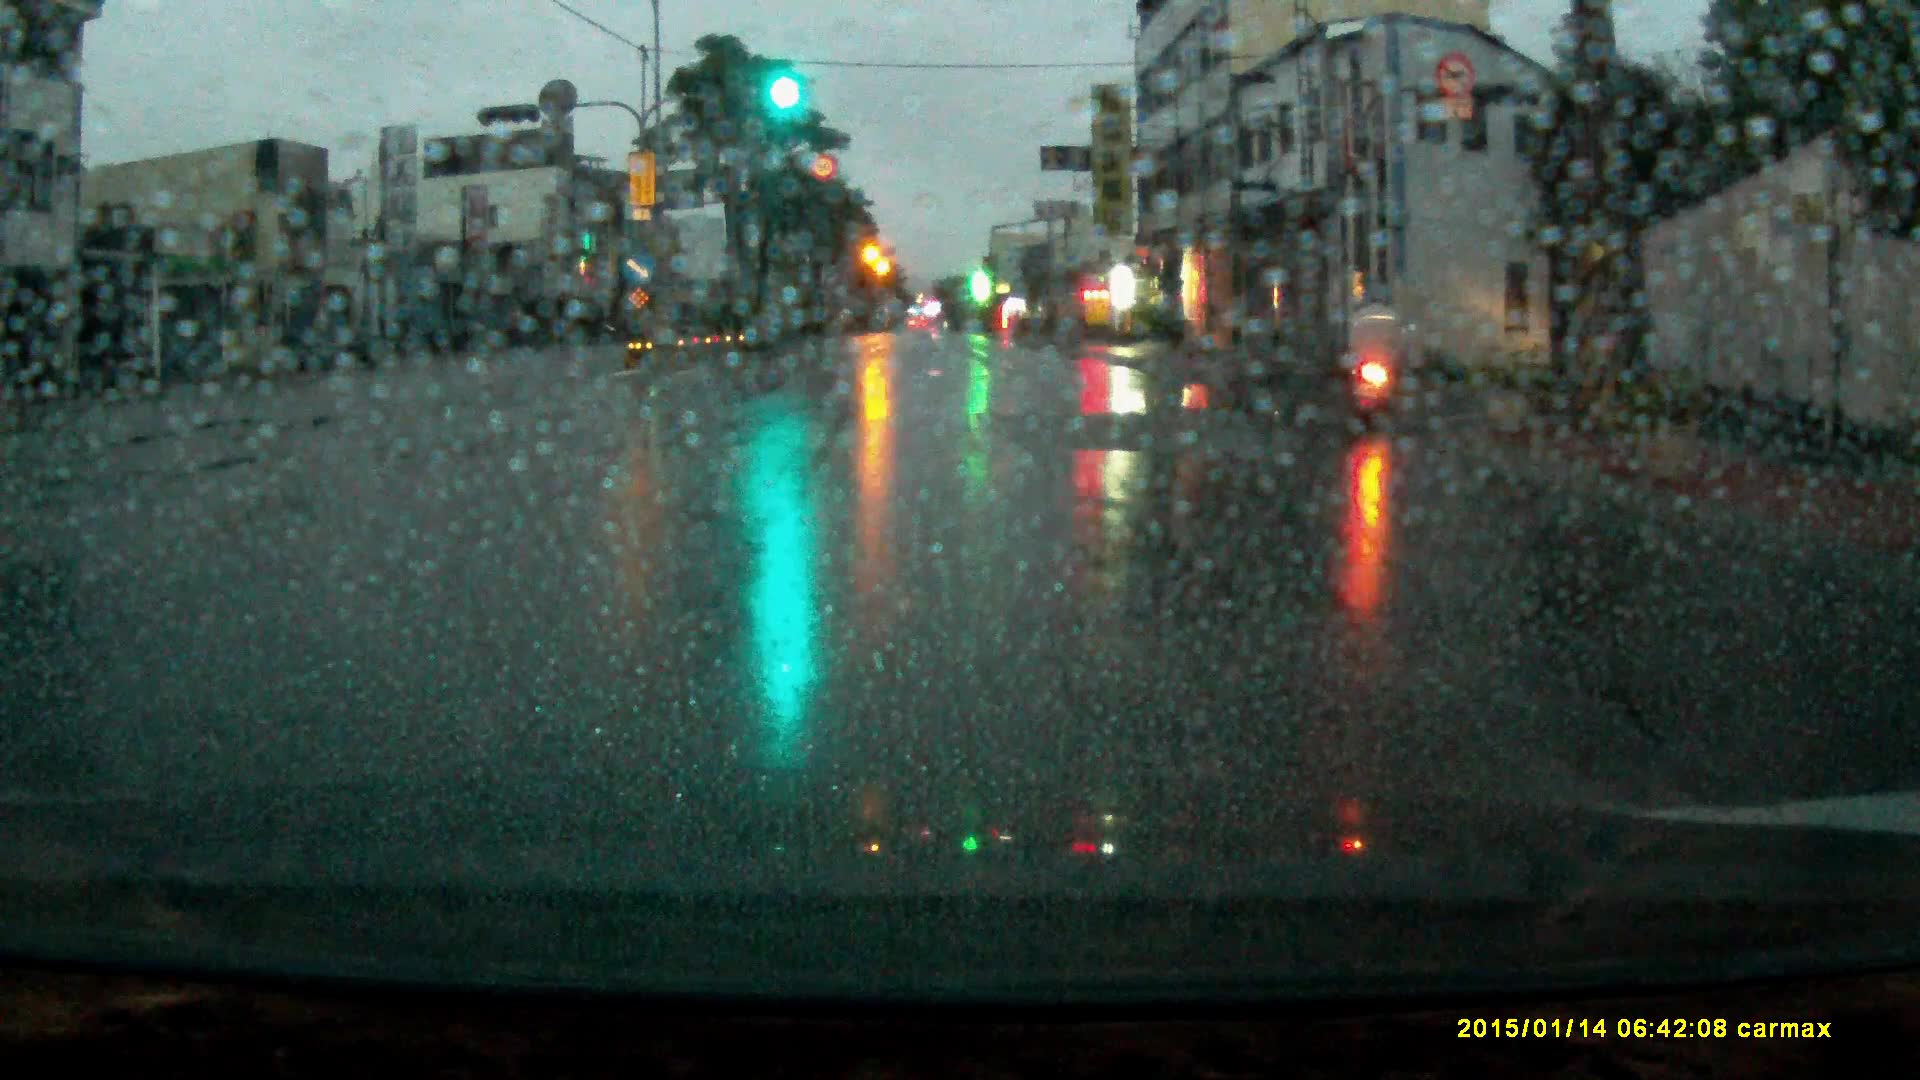rider: (1336, 286, 1425, 422)
